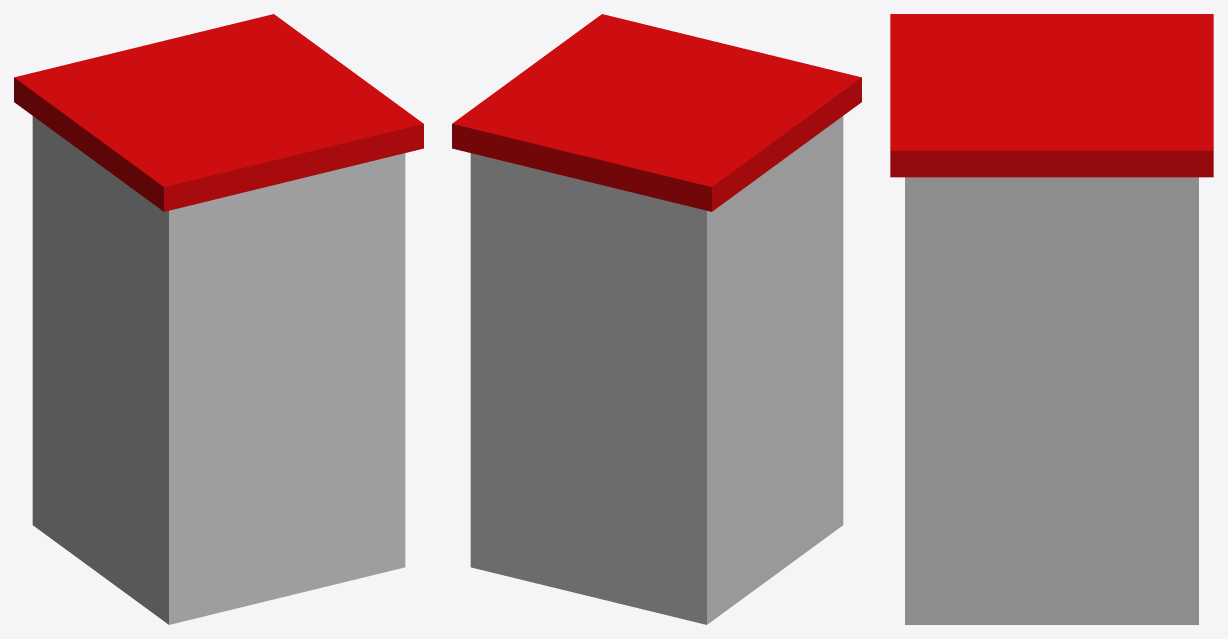
The model's file is House4.fbx.
3 views of the same model, side by side, from view 1: azimuth 30°, elevation 25°; view 2: azimuth 150°, elevation 25°; view 3: azimuth 270°, elevation 25° (orthographic). The views are drawn at different scales.
Parts seen in each view (by area): view 1: House4_LOD0, House4_LOD0.001; view 2: House4_LOD0, House4_LOD0.001; view 3: House4_LOD0, House4_LOD0.001.
Part boxes in pixels (x1=…): House4_LOD0: x1=32, y1=116, x2=405, y2=624; House4_LOD0.001: x1=14, y1=14, x2=423, y2=211; House4_LOD0: x1=470, y1=116, x2=843, y2=624; House4_LOD0.001: x1=452, y1=14, x2=861, y2=211; House4_LOD0: x1=905, y1=177, x2=1198, y2=624; House4_LOD0.001: x1=890, y1=14, x2=1213, y2=177.
Bounding box in the file's own units: 275 × 450 × 275.
